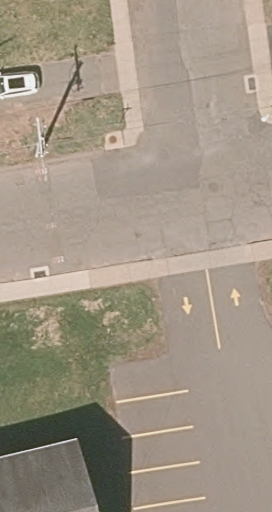DT: (32, 117, 49, 160)
